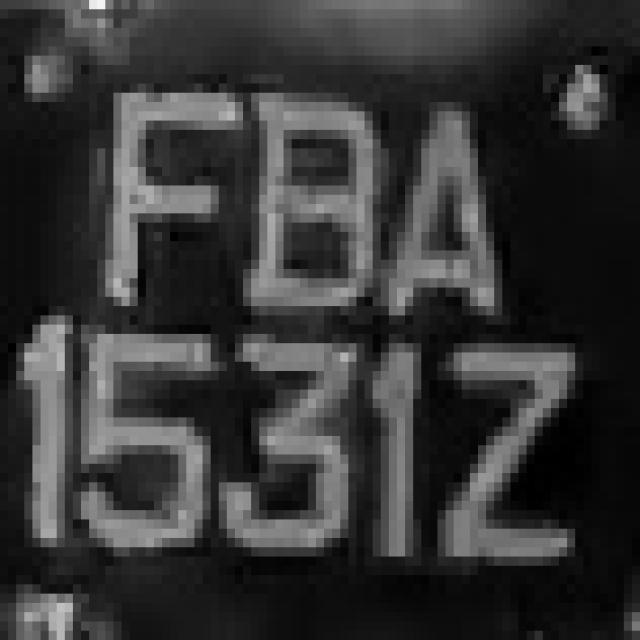1: (348, 297, 438, 603), (16, 278, 89, 575)
3: (219, 315, 356, 566)
5: (73, 297, 227, 584)
A: (364, 83, 510, 324)
B: (243, 56, 373, 324)
F: (81, 65, 235, 334)
Z: (454, 316, 591, 584)
